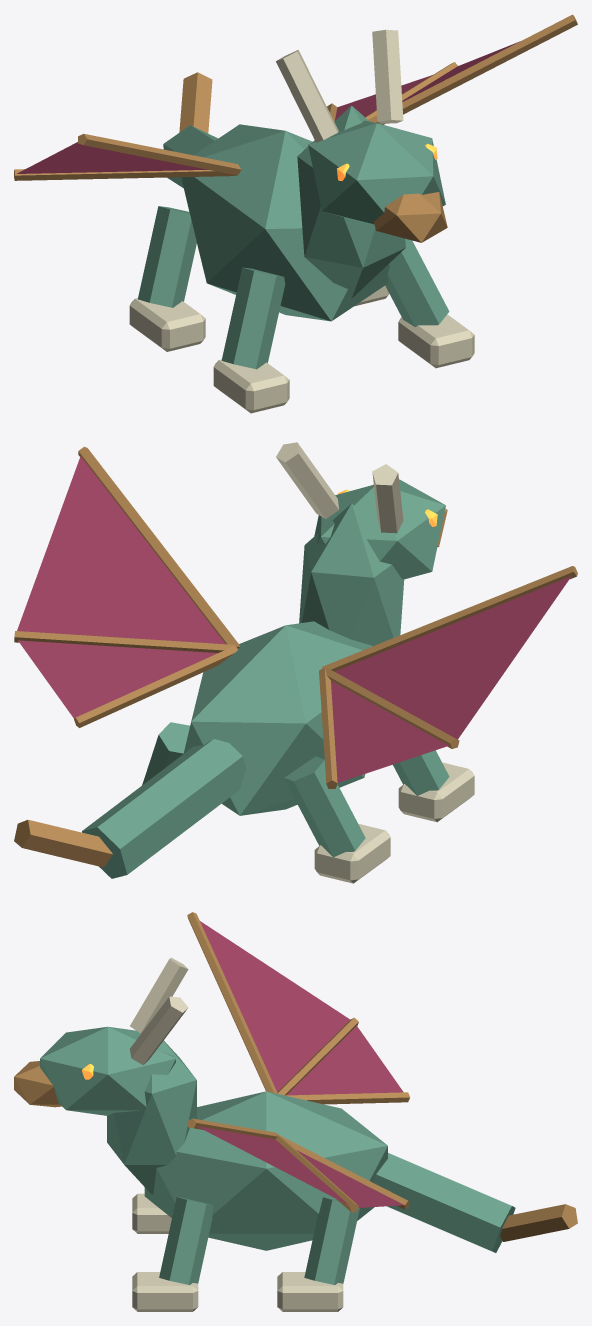
File: companion-dragon.fbx
The picture shows the model from 3 angles, top to bottom: view 1: azimuth 30°, elevation 25°; view 2: azimuth 150°, elevation 25°; view 3: azimuth 270°, elevation 25°; orthographic projection. The views are drawn at different scales.
Parts seen in each view (by area): view 1: body, head.003, neck, leg.006, leg.007, leg.008, wing membrane, claw foot, claw foot.001, claw foot.002, muzzle, horn.001 (+7 smaller); view 2: wing membrane.001, wing membrane, body, tail, neck, head.003, leg.007, wing finger.003, tail tip, wing finger, claw foot, claw foot.001 (+8 smaller); view 3: body, wing membrane, head.003, neck, tail, wing membrane.001, leg.008, leg.009, claw foot.002, claw foot.003, wing finger, tail tip (+9 smaller).
Part boxes in pixels (box(x1,y1,x2,y2)): body: box(181, 124, 389, 321); head.003: box(308, 120, 445, 225); neck: box(297, 105, 405, 298); leg.006: box(221, 267, 285, 369); leg.007: box(138, 206, 196, 307); leg.008: box(385, 238, 449, 327); wing membrane: box(17, 142, 207, 173); claw foot: box(213, 359, 289, 413); claw foot.001: box(129, 298, 205, 351); claw foot.002: box(398, 314, 474, 368); muzzle: box(374, 192, 447, 242); horn.001: box(372, 29, 403, 123); wing membrane.001: box(17, 456, 225, 718); wing membrane: box(331, 576, 571, 782); body: box(183, 621, 372, 815); tail: box(82, 739, 246, 878); neck: box(299, 503, 404, 646); head.003: box(314, 479, 445, 579); leg.007: box(284, 756, 365, 857); wing finger.003: box(78, 446, 239, 648); tail tip: box(14, 819, 112, 867); wing finger: box(322, 566, 577, 671); claw foot: box(398, 762, 474, 822); claw foot.001: box(314, 824, 390, 883); body: box(144, 1091, 387, 1250); wing membrane: box(200, 921, 403, 1095); head.003: box(40, 1026, 175, 1115); neck: box(107, 1040, 196, 1194); tail: box(373, 1153, 515, 1252); wing membrane.001: box(197, 1126, 404, 1207); leg.008: box(159, 1197, 213, 1284); leg.009: box(304, 1197, 359, 1284); claw foot.002: box(132, 1272, 198, 1311); claw foot.003: box(277, 1272, 343, 1311); wing finger: box(187, 912, 277, 1093); tail tip: box(500, 1204, 577, 1241).
Size of the model in its own units: 113 by 72.23 by 128.
